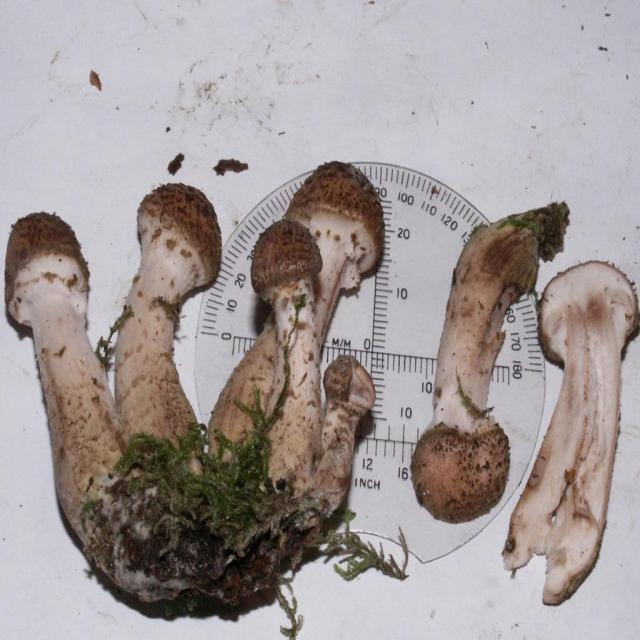Armillaria mellea: (6, 163, 386, 614), (409, 201, 570, 521), (506, 261, 637, 609)
